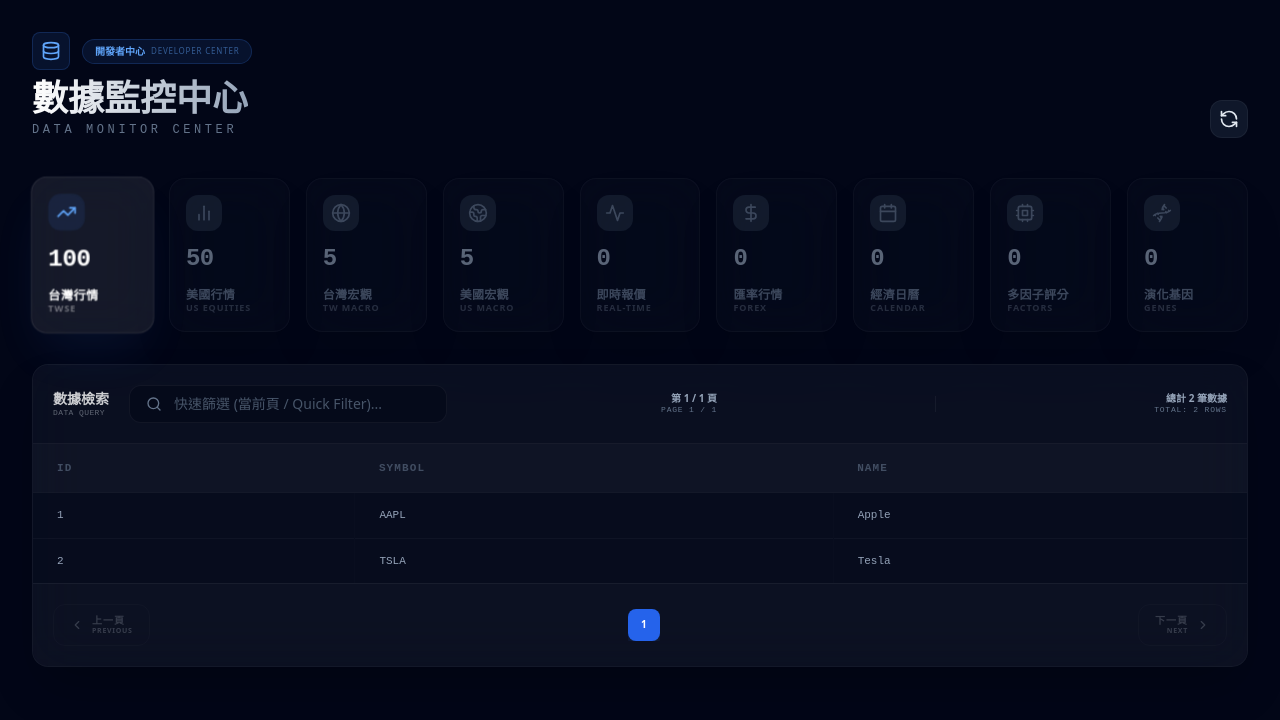
MonitorPage Enhancements › 客戶端過濾 (Client Side Filter) › TC-M04: 輸入關鍵字應過濾顯示內容
Expected: the text "Apple" is shown, [833,492,1247,538]
Note: Filter for TSLA
Step 1. Type "Tesla" into the field with test id "filter-input" → {"x": 302, "y": 404}, box [174,394,430,414]
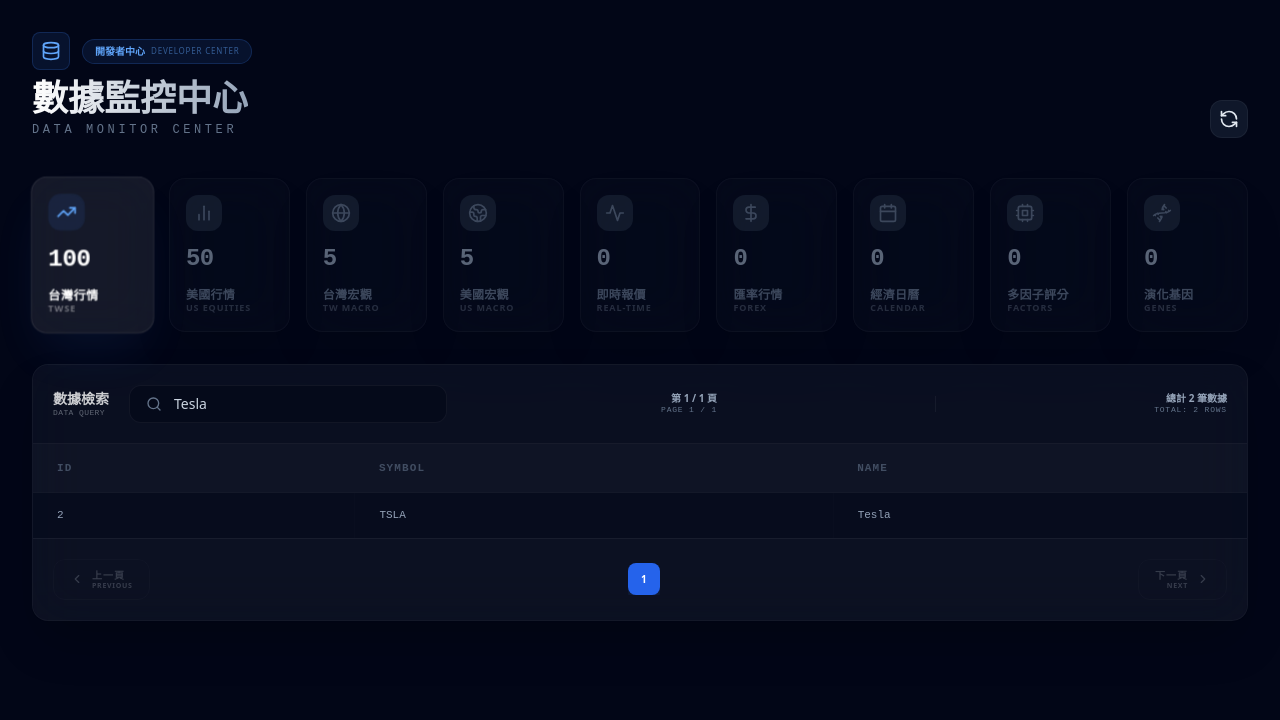
Expected: the text "Apple" is gone
Expected: the text "Tesla" is shown, [833,492,1247,538]
